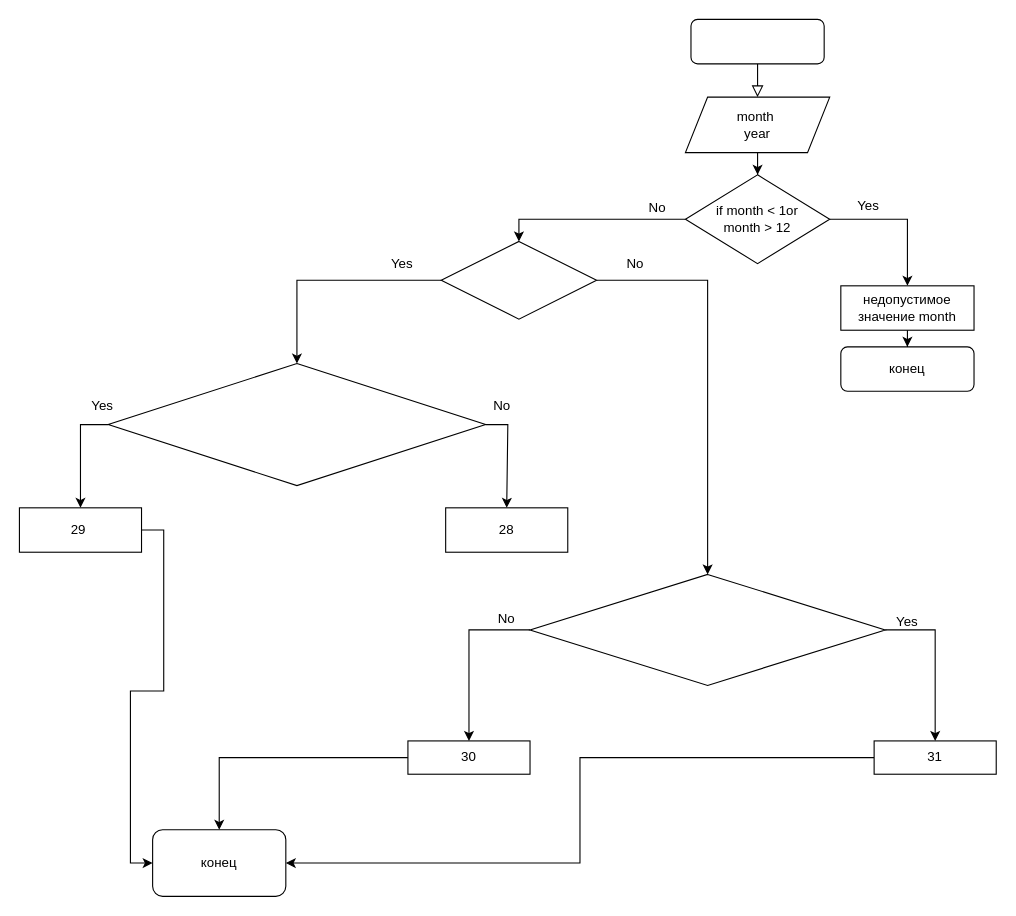
This 1016x916 diagram has some shape labels left out. Here are the shapes that lost their labels. From the top down, the centre of each, then its label:
At pixel 757 41: "начало".
At pixel 518 279: "If month ==2".
At pixel 296 424: "year % 4 == 0 and year % 100 != 0 or year % 100 == 0 and year % 400 == 0".
At pixel 707 629: "month in [ 1 , 3 , 5 , 7 , 8 , 10 , 12 ]".
